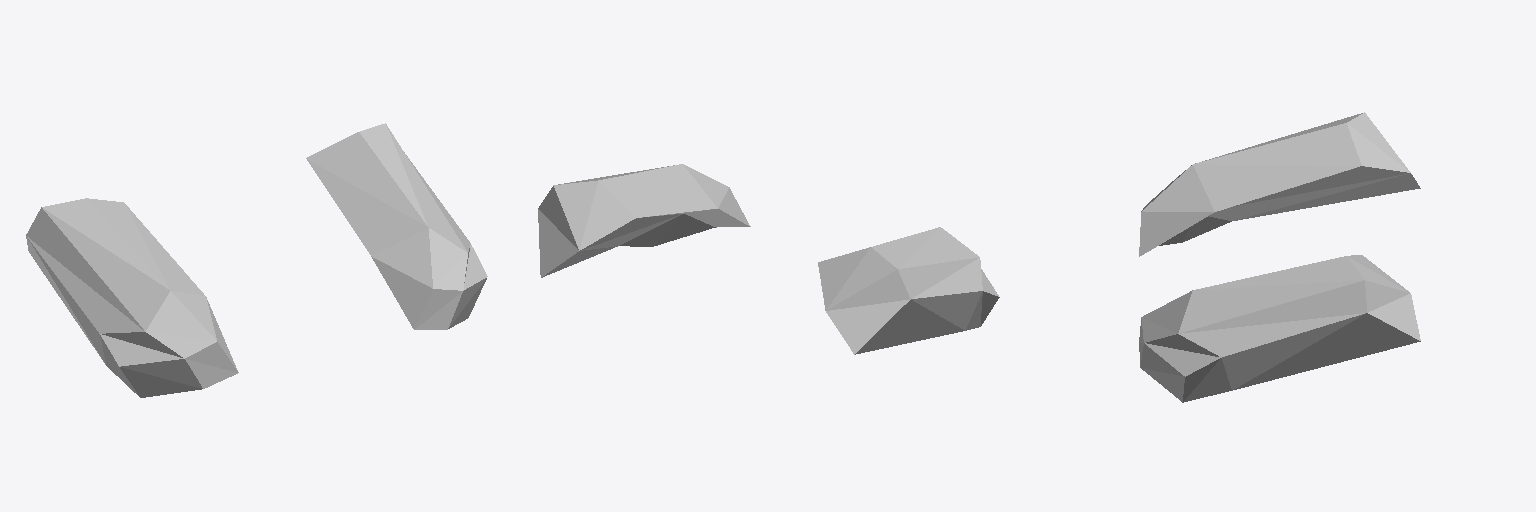
Rendered from angry_brows.obj.
3 views of the same model, side by side, from view 1: azimuth 30°, elevation 25°; view 2: azimuth 150°, elevation 25°; view 3: azimuth 270°, elevation 25° (orthographic).
Parts seen in each view (by area): view 1: Cube.027; view 2: Cube.027; view 3: Cube.027.
Boxes of the visible parts, x1,y1,x2,y2 form: Cube.027: [26, 123, 487, 397]; Cube.027: [538, 164, 999, 354]; Cube.027: [1139, 112, 1420, 402].
Size of the model in its own units: 0.685 by 0.2341 by 0.4489.